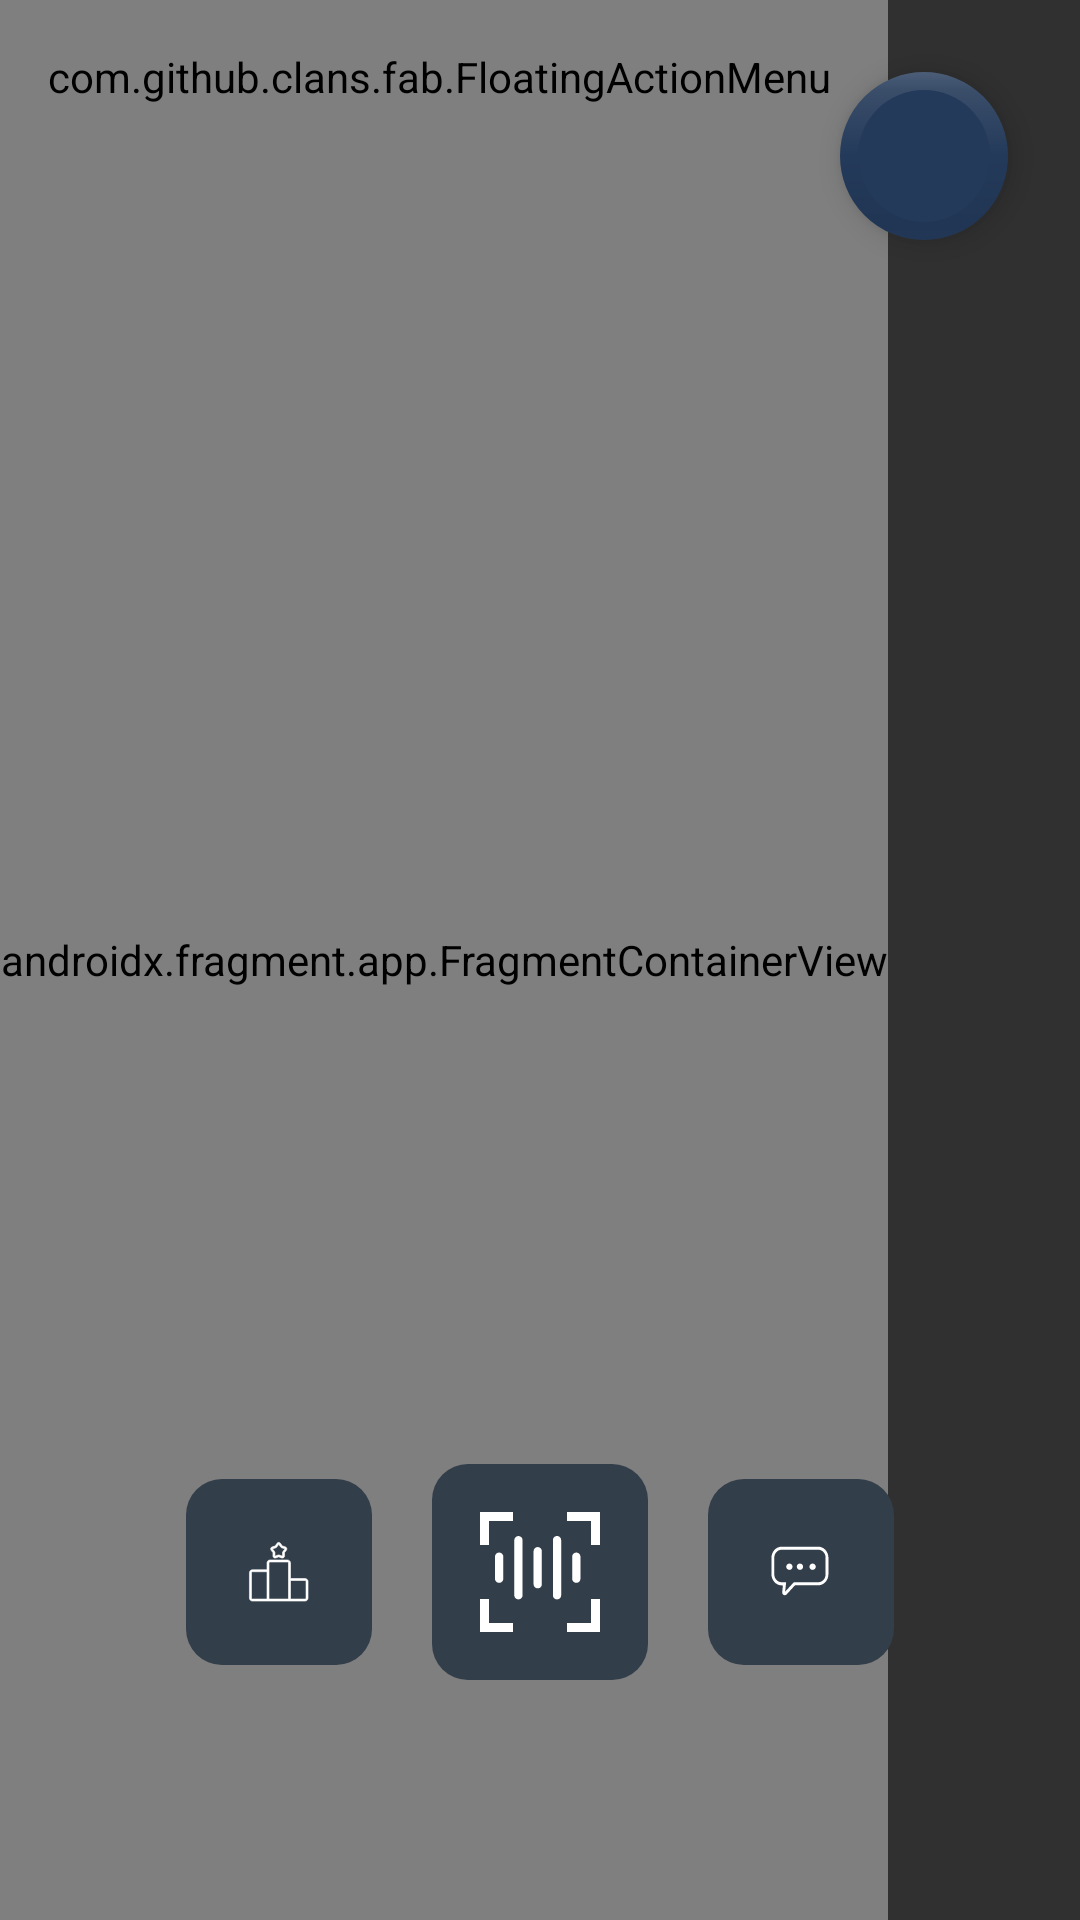

Icon bounding boxes for this 1080 × 1920 phone screenshot, format box(x1, y1, x2, y2):
chat: box(708, 1479, 894, 1665)
ranking: box(186, 1479, 372, 1665)
